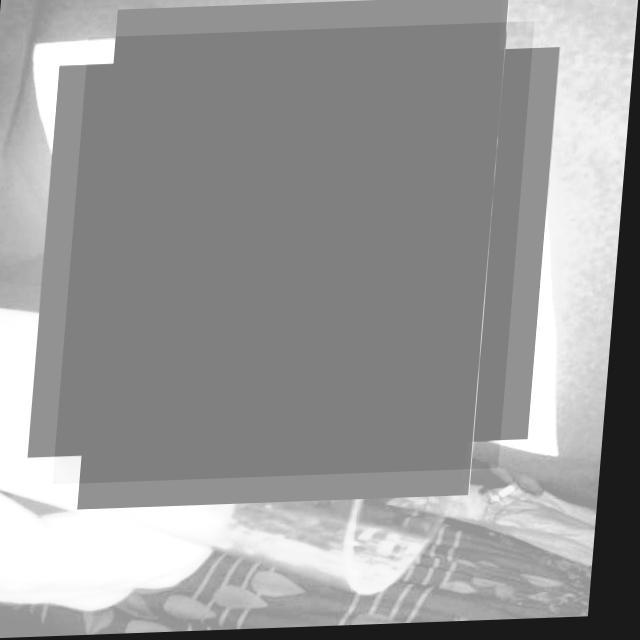qr_code: (60, 25, 534, 485)
